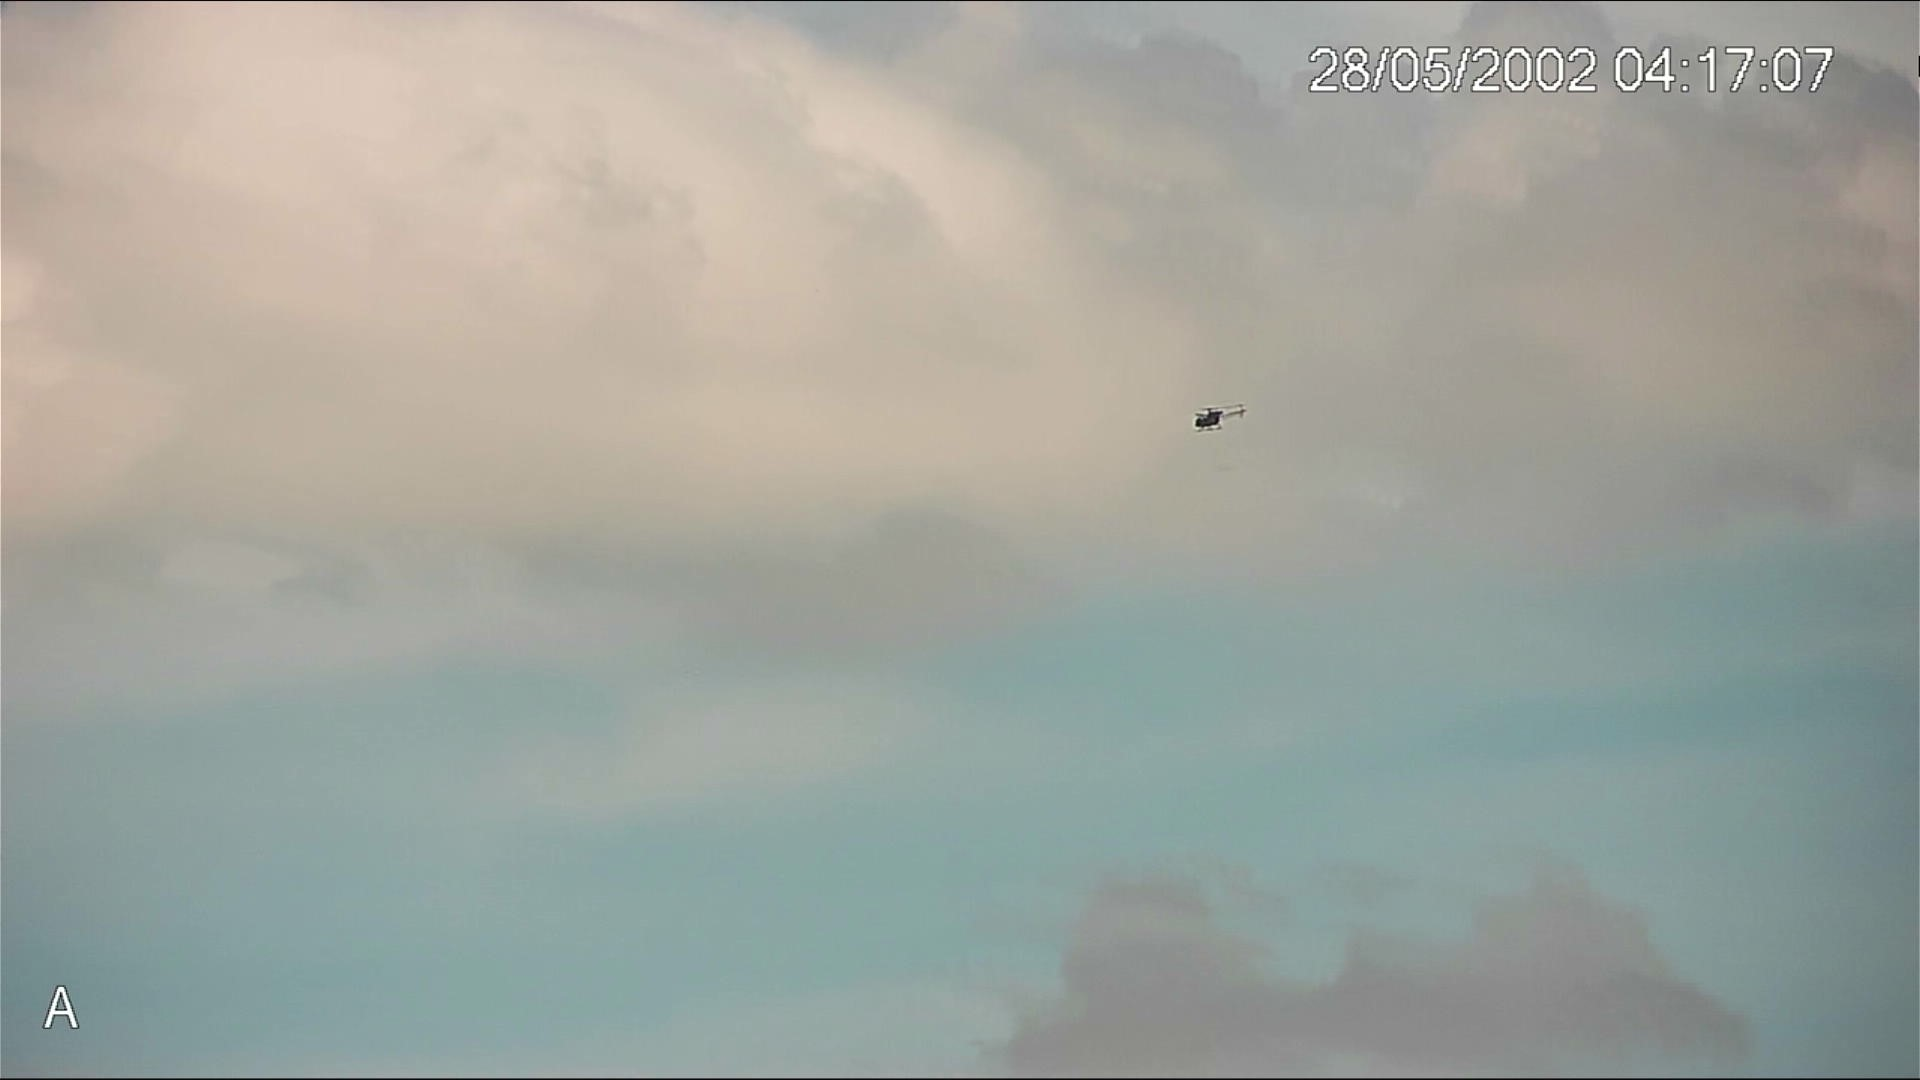SU_30: (1192, 404, 1247, 431)
